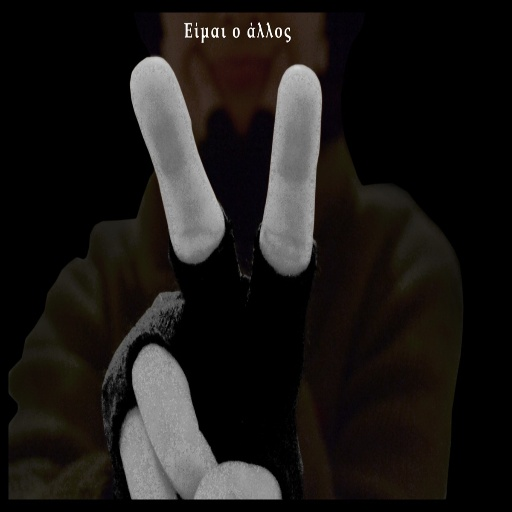hand: (76, 98, 387, 493)
